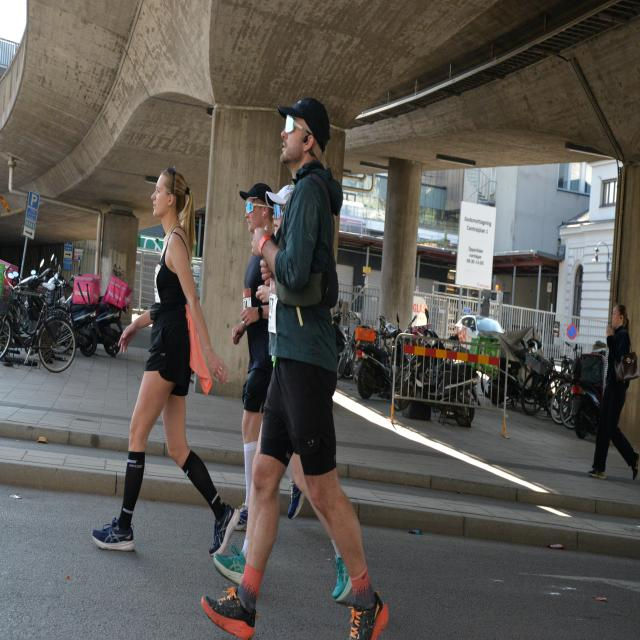runner-detect: (197, 71, 402, 640), (90, 119, 240, 565)
